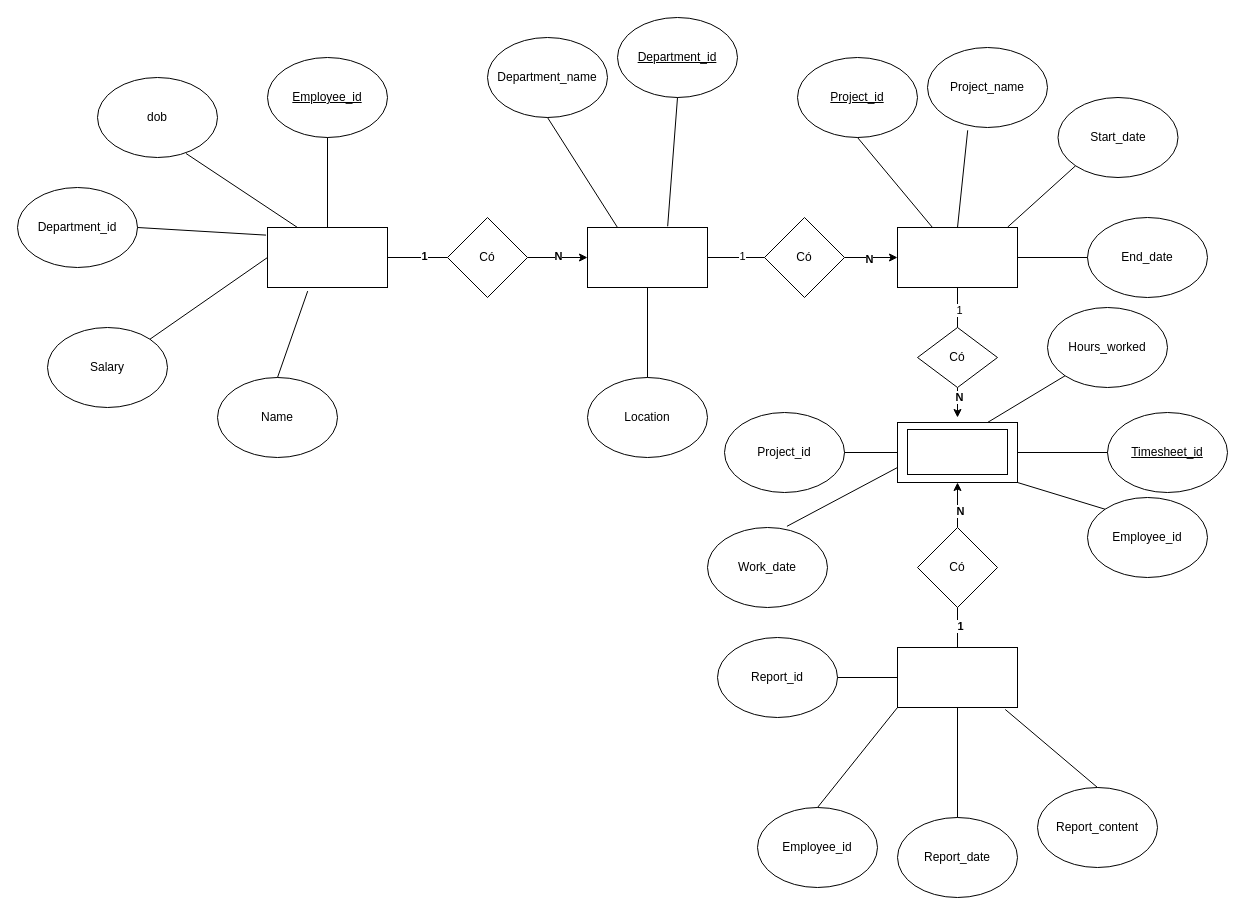
Some shapes in this 1245 by 915 pixel diagram are drawn without their labels. Here are the shapes that lost their labels. From the top down, the centre of each, then its label:
At point (327, 257): "Employees".
At point (647, 257): "Departments".
At point (957, 257): "Projects".
At point (957, 451): "Timesheets".
At point (957, 677): "WorkReports".
